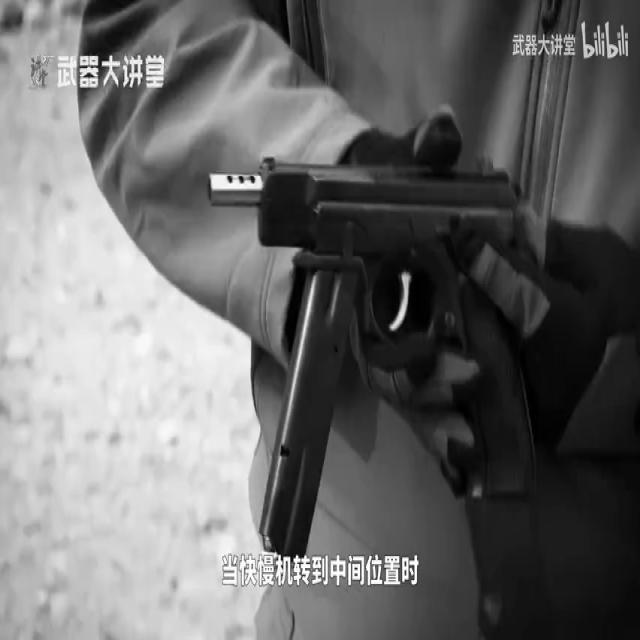Hand-Gun: (196, 106, 521, 548)
